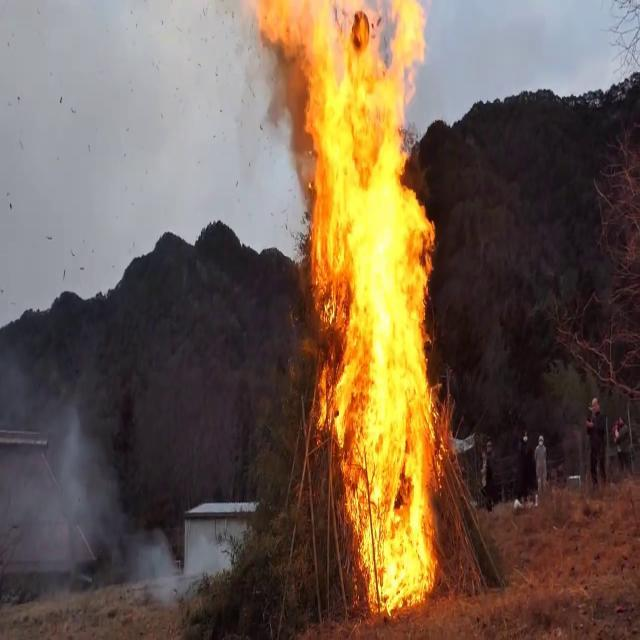Fire: (274, 0, 450, 620)
Smoke: (0, 318, 106, 598)
